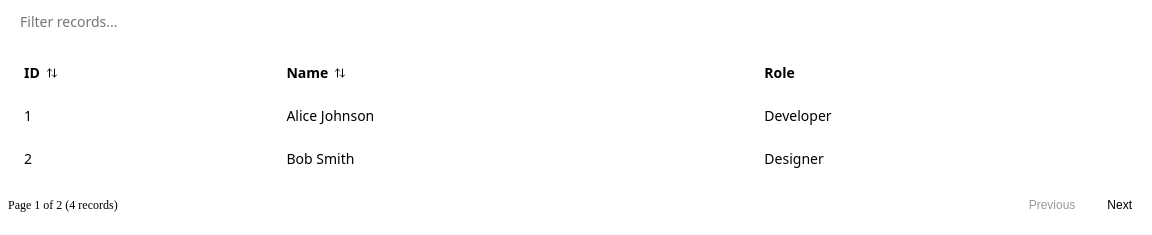
Test: DataTable Component & A11y › paginates data and disables boundary buttons
expect the text "Page 1 of 2 (4 records)" is shown: met, box [8,198,118,212]
expect the text "Alice Johnson" is shown: met, box [270,94,748,137]
Click the button "Next" at (1120, 205), box [1095,192,1144,218]
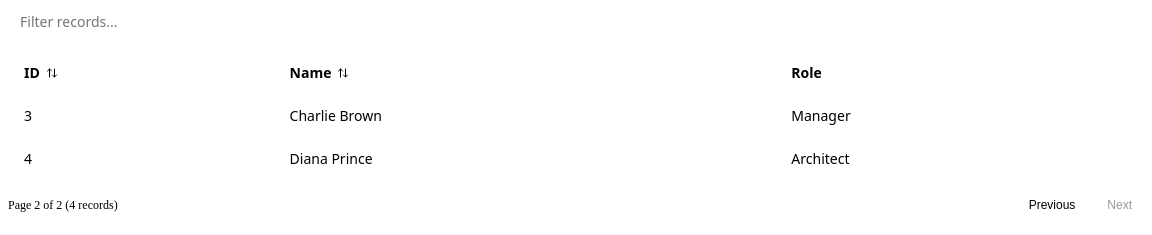
expect the text "Charlie Brown" is shown: met, box [274,94,775,137]
expect the text "Alice Johnson" is gone: met
expect the button "Next" is disabled: met, box [1095,192,1144,218]
